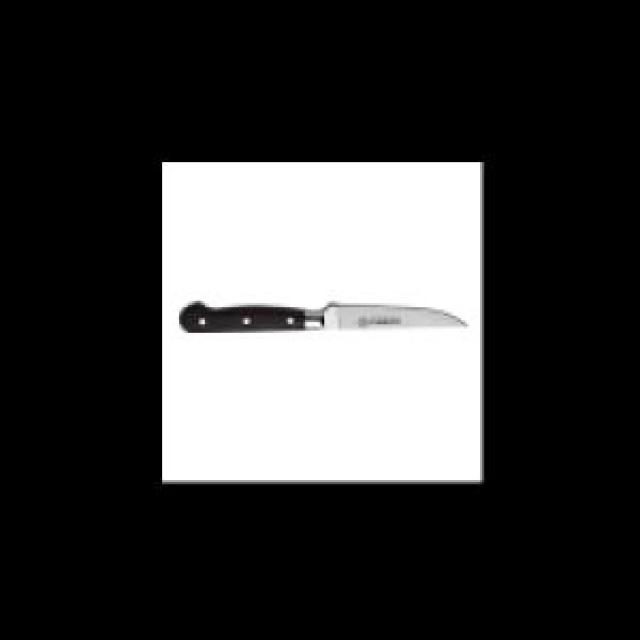knife: (177, 296, 472, 348)
